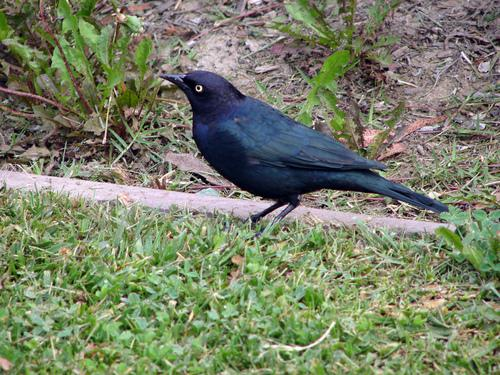009.Brewer_Blackbird: (156, 67, 449, 232)
